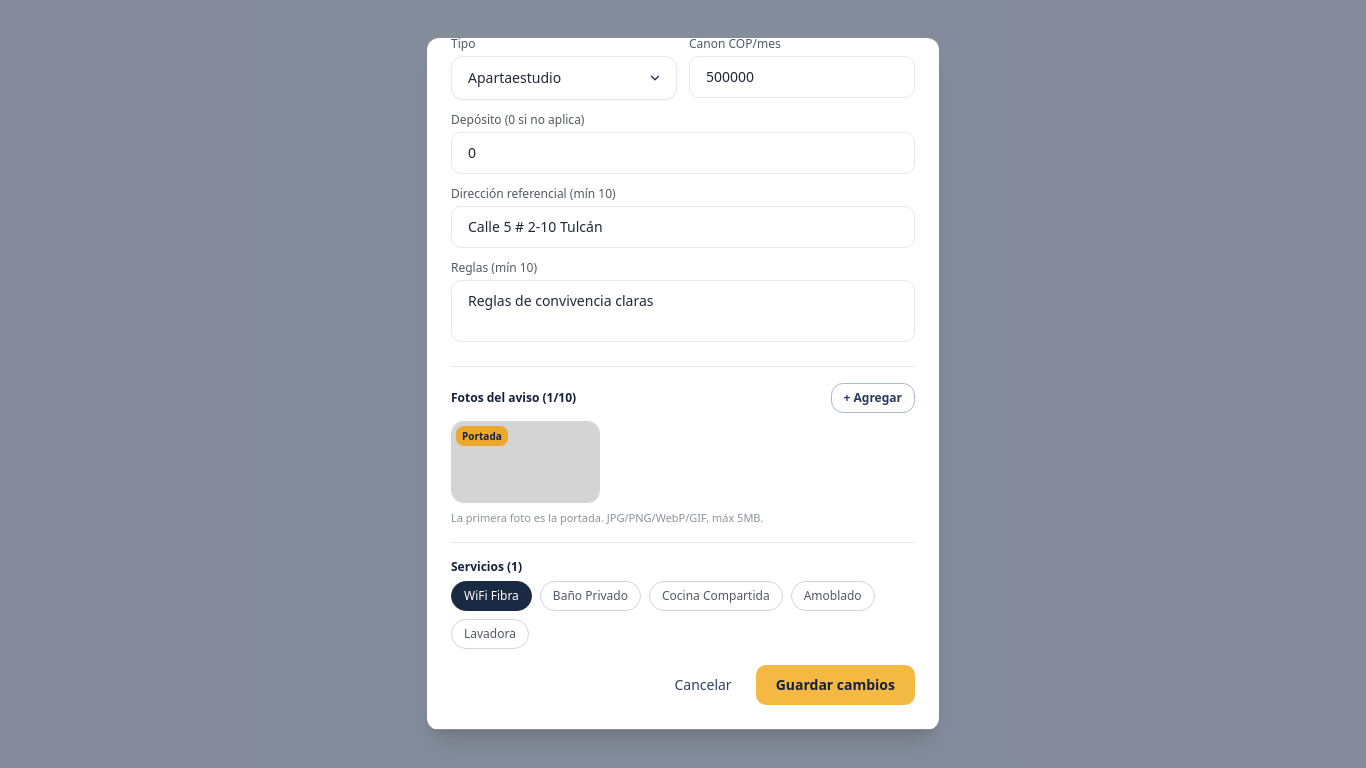
Test: EditarPublicacionModal › 403 muestra permiso denegado
(page scrolled)
Click the button "Guardar cambios" at (835, 685), box [756, 665, 915, 705]
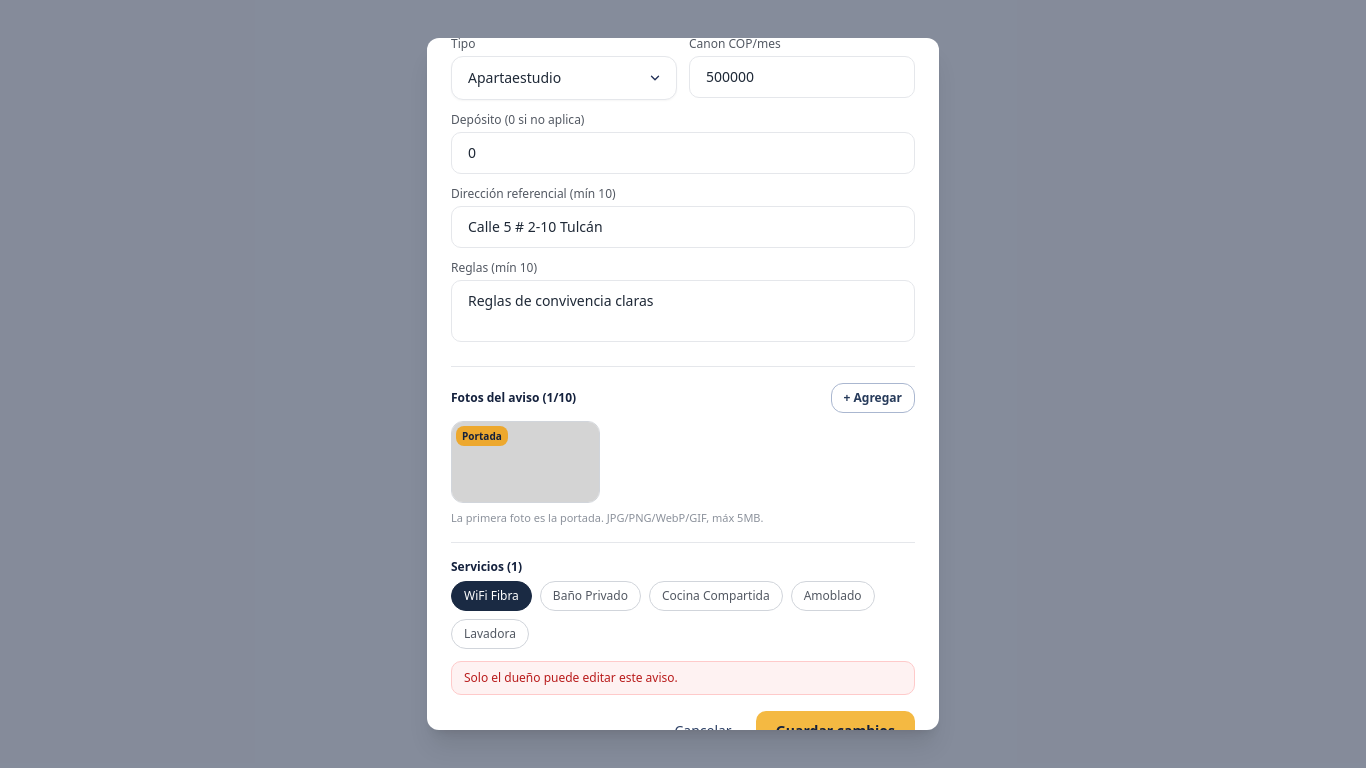
Check: the text "Solo el dueño puede editar este aviso." is shown, box [451, 661, 915, 695]
